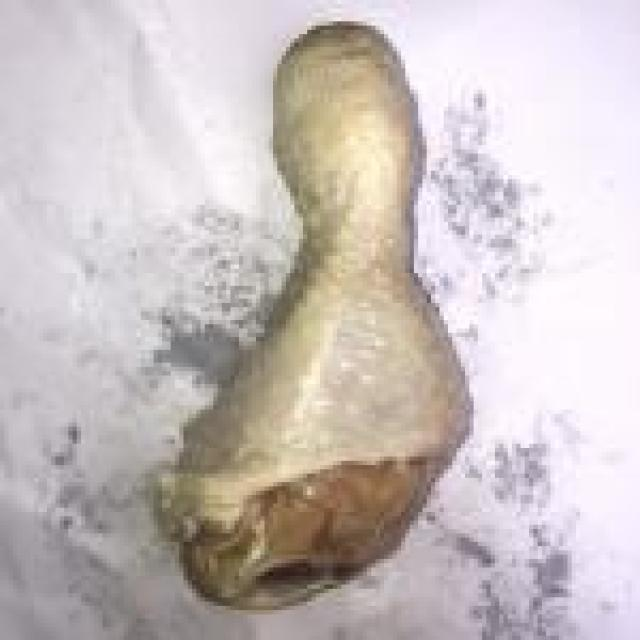leg: (193, 27, 476, 592)
